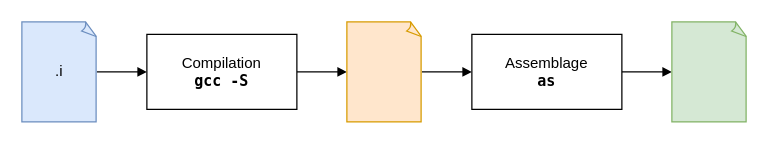
Some shapes in this 769 by 144 pixel diagram are drawn without their labels. Each missing label, with the centre of its shape:
.o: point (709, 71)
.s: point (384, 71)
